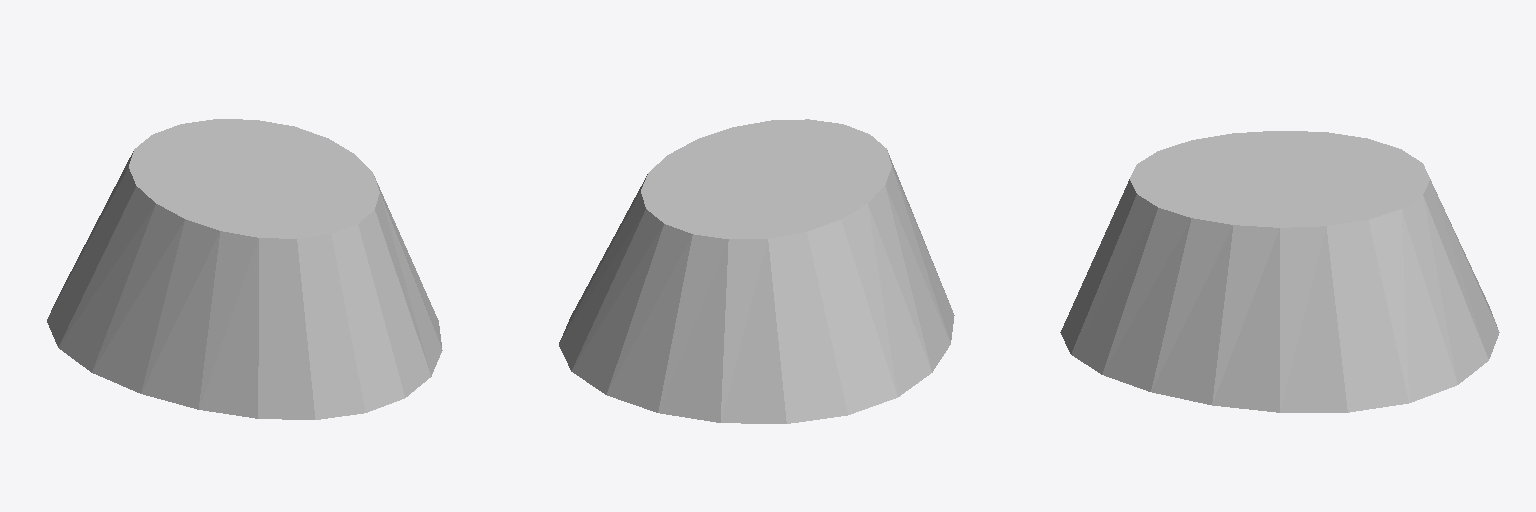
Rendered from toilet_base_1.obj.
3 views of the same model, side by side, from view 1: azimuth 30°, elevation 25°; view 2: azimuth 150°, elevation 25°; view 3: azimuth 270°, elevation 25° (orthographic).
Bounding box in the file's own units: 5.53 × 2.47 × 6.4.